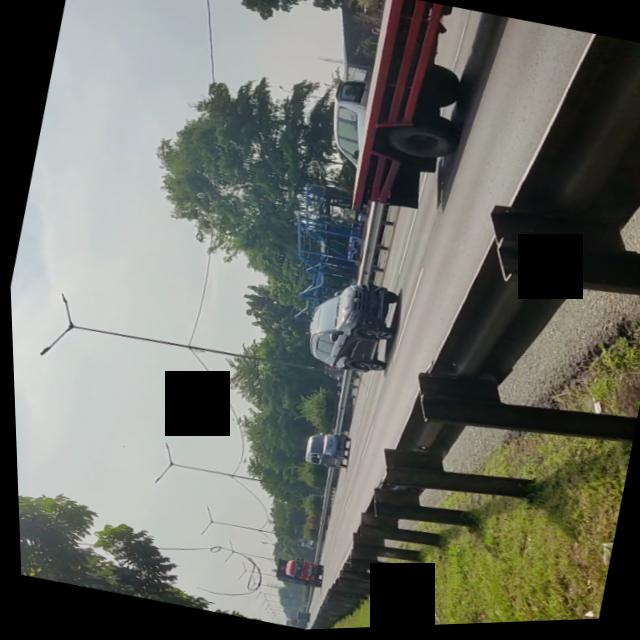Golongan I: (293, 271, 411, 388)
